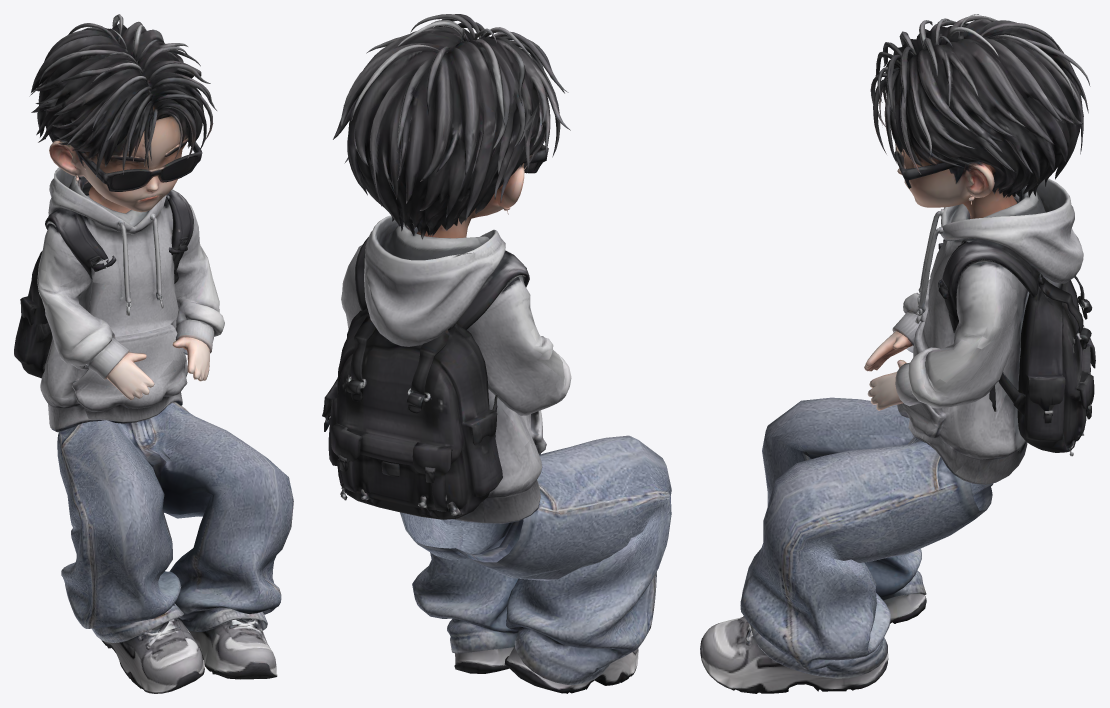
The model's file is character.glb.
3 renders of one model, left to right at view 1: azimuth 30°, elevation 25°; view 2: azimuth 150°, elevation 25°; view 3: azimuth 270°, elevation 25°, orthographic. The views are drawn at different scales.
Visible parts, largest first — view 1: character_static; view 2: character_static; view 3: character_static.
Boxes of the visible parts, x1,y1,x2,y2 form: character_static: (14, 14, 293, 693); character_static: (322, 14, 671, 693); character_static: (700, 14, 1095, 693).
Bounding box in the file's own units: 0.3098 × 0.8629 × 0.4737.
Materials: 1 (1 with a texture image).
